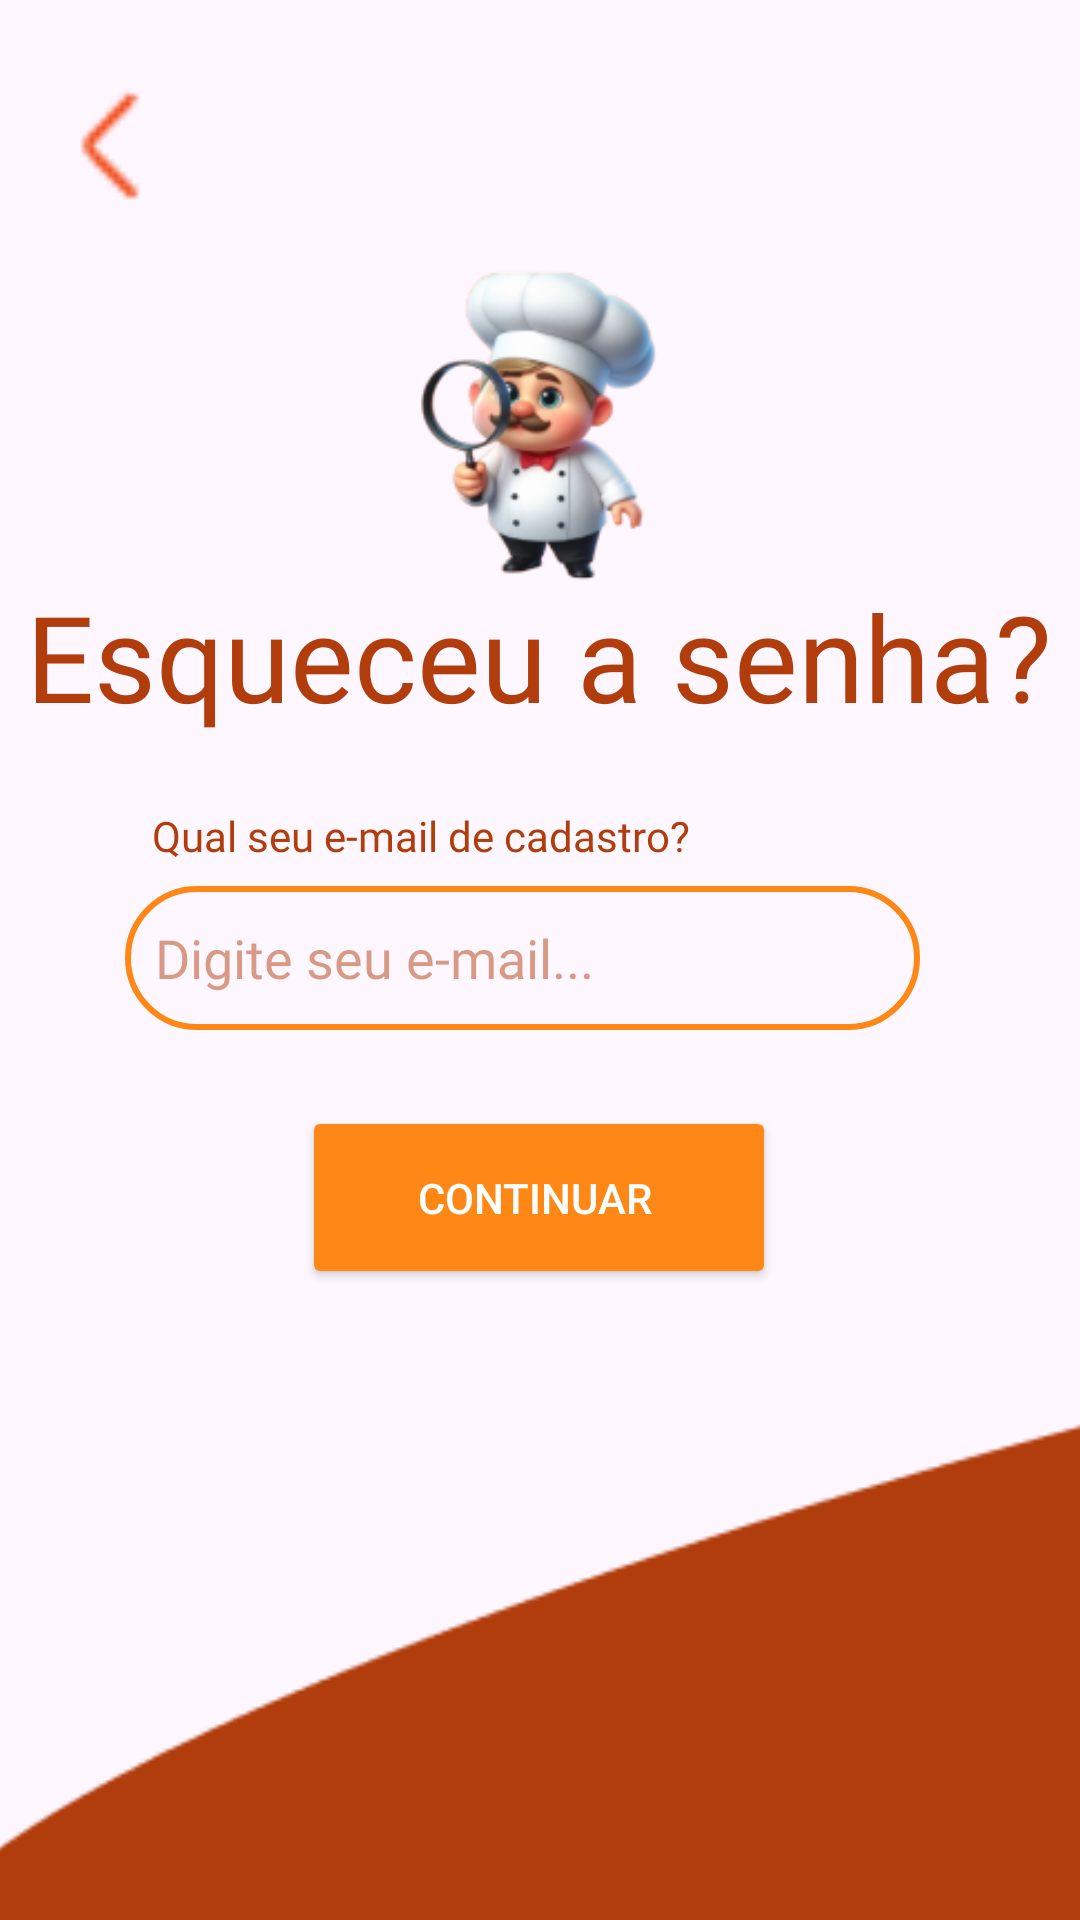

Where icons sit on this 1080x1920 app screen, as (x1=x1, y1=y1, x2=x2, y2=y2):
chefinho: (x1=421, y1=273, x2=655, y2=580)
voltar para tela inicial(login): (x1=81, y1=92, x2=139, y2=199)
